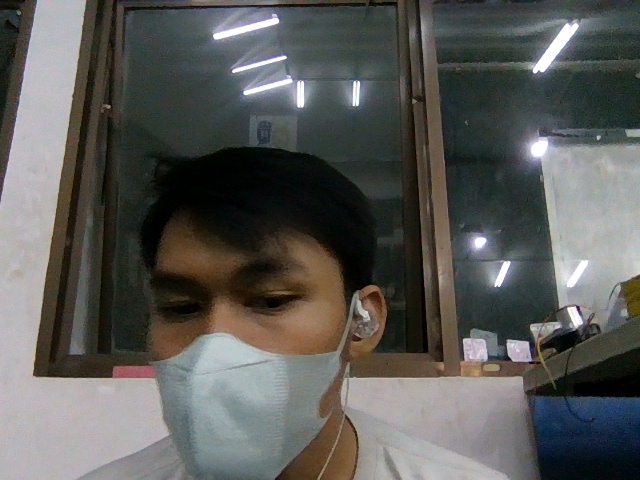mask_on: (149, 333, 345, 480)
